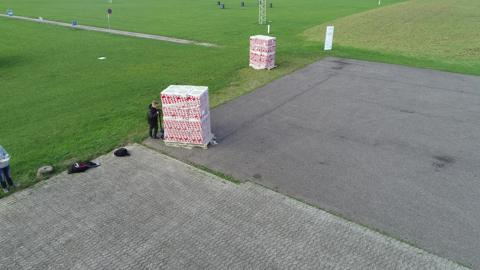RockwoolPallet: (160, 85, 211, 145)
